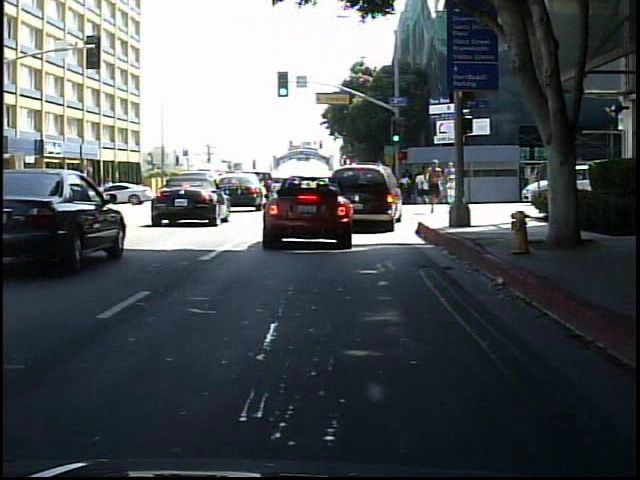person: (424, 158, 445, 217), (102, 176, 120, 204), (442, 173, 455, 208)
